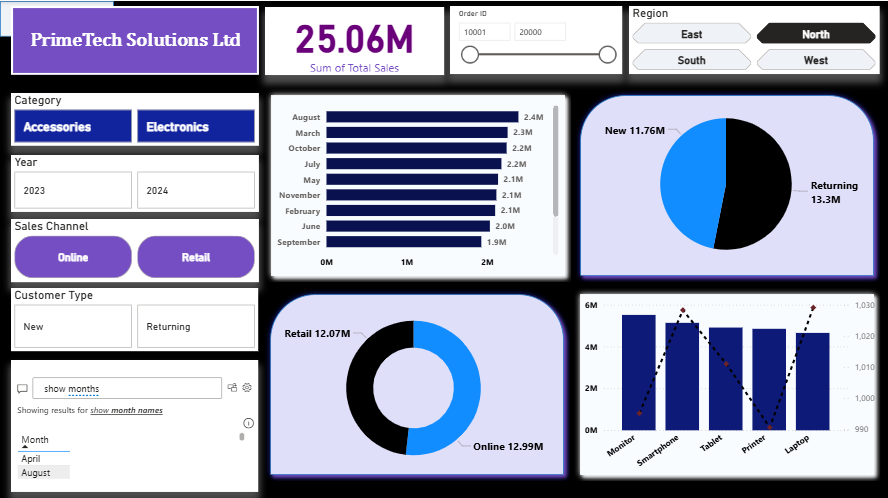

Layout of this report page (visuals, bound fields, positions):
{"tool":"powerbi","page":{"name":"Prime Tech Solution Ltd","canvas":[1280,720],"ordinal":0},"visuals":[{"type":"shape","box":[0,0,163.8,51.2],"z":0},{"type":"shape","box":[15.8,7.2,357.1,99.4],"z":1000},{"type":"advancedSlicerVisual","fields":{"Values":["Sheet1.Region"]},"box":[905.8,7.2,361.4,97.9],"z":2000},{"type":"card","fields":{"Values":["Sum(Sheet1.Total Sales)"]},"box":[381.6,8.6,257.8,97.9],"z":3000},{"type":"slicer","fields":{"Values":["Sheet1.Order ID"]},"box":[648,7.2,247.7,97.9],"z":4000},{"type":"advancedSlicerVisual","fields":{"Values":["Sheet1.Category"]},"box":[15.8,132.5,357.1,76.3],"z":5000},{"type":"advancedSlicerVisual","fields":{"Values":["Sheet1.Order Date.Variation.Date Hierarchy.Year"]},"box":[15.8,221.8,357.1,82.1],"z":6000},{"type":"advancedSlicerVisual","fields":{"Values":["Sheet1.Sales Channel"]},"box":[15.8,313.9,357.1,90.7],"z":7000},{"type":"advancedSlicerVisual","fields":{"Values":["Sheet1.Customer Type"]},"box":[16.2,413.8,356.2,91.2],"z":8000},{"type":"qnaVisual","box":[15.8,517,355.7,190.1],"z":9000},{"type":"shape","box":[381.6,126.7,440.6,277.9],"z":10000},{"type":"shape","box":[826.6,126.7,440.6,277.9],"z":11000},{"type":"shape","box":[826.6,413.3,440.6,277.9],"z":12000},{"type":"shape","box":[380.2,413.3,440.6,277.9],"z":13000},{"type":"clusteredBarChart","fields":{"Category":["Sheet1.Month"],"Y":["Sum(Sheet1.Total Sales)"]},"box":[393.1,136.8,416.2,257.8],"z":14000},{"type":"lineStackedColumnComboChart","fields":{"Y":["Sum(Sheet1.Total Sales)"],"Category":["Sheet1.Product"],"Y2":["Avg(Sheet1.Unit Price)"]},"box":[836.6,423.4,430.6,267.8],"z":15000},{"type":"pieChart","fields":{"Category":["Sheet1.Customer Type"],"Y":["Sum(Sheet1.Total Sales)"]},"box":[836.6,132.5,417.6,262.1],"z":16000},{"type":"donutChart","fields":{"Y":["Sum(Sheet1.Total Sales)"],"Category":["Sheet1.Sales Channel"]},"box":[381.6,423.4,427.7,267.8],"z":17000}]}

Visuals, with their boxes in screenshot pixels (x1, y1, x2, y2), scaled from the page's 1280x720 canvas onto the 888x498 screenshot:
shape: bbox=[0, 0, 114, 35]
shape: bbox=[11, 5, 259, 74]
advancedSlicerVisual - Sheet1.Region: bbox=[628, 5, 879, 73]
card - Sum(Sheet1.Total Sales): bbox=[265, 6, 444, 74]
slicer - Sheet1.Order ID: bbox=[450, 5, 621, 73]
advancedSlicerVisual - Sheet1.Category: bbox=[11, 92, 259, 144]
advancedSlicerVisual - Sheet1.Order Date.Variation.Date Hierarchy.Year: bbox=[11, 153, 259, 210]
advancedSlicerVisual - Sheet1.Sales Channel: bbox=[11, 217, 259, 280]
advancedSlicerVisual - Sheet1.Customer Type: bbox=[11, 286, 258, 349]
qnaVisual: bbox=[11, 358, 258, 489]
shape: bbox=[265, 88, 570, 280]
shape: bbox=[573, 88, 879, 280]
shape: bbox=[573, 286, 879, 478]
shape: bbox=[264, 286, 569, 478]
clusteredBarChart - Sheet1.Month x Sum(Sheet1.Total Sales): bbox=[273, 95, 561, 273]
lineStackedColumnComboChart - Sum(Sheet1.Total Sales) x Sheet1.Product: bbox=[580, 293, 879, 478]
pieChart - Sheet1.Customer Type x Sum(Sheet1.Total Sales): bbox=[580, 92, 870, 273]
donutChart - Sum(Sheet1.Total Sales) x Sheet1.Sales Channel: bbox=[265, 293, 561, 478]
